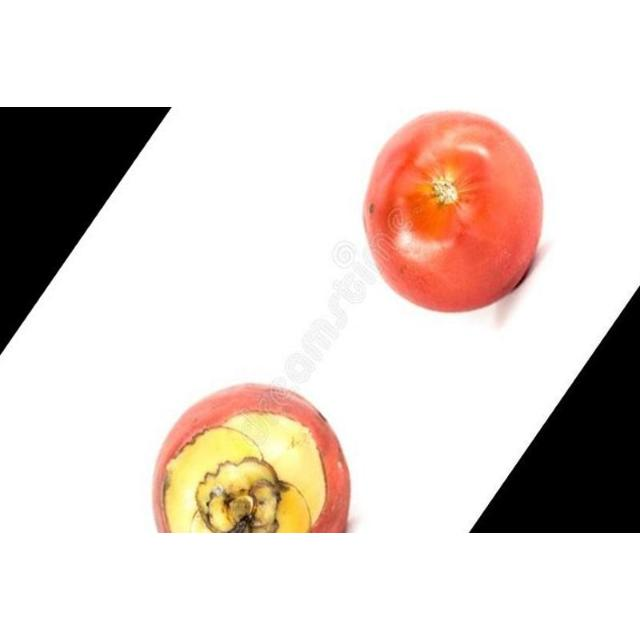good: (362, 111, 546, 315), (152, 384, 353, 533)
